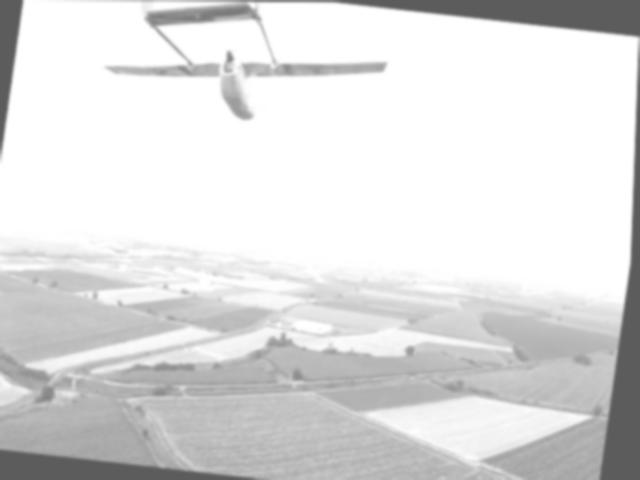hedef: (87, 1, 400, 152), (167, 254, 257, 307)
